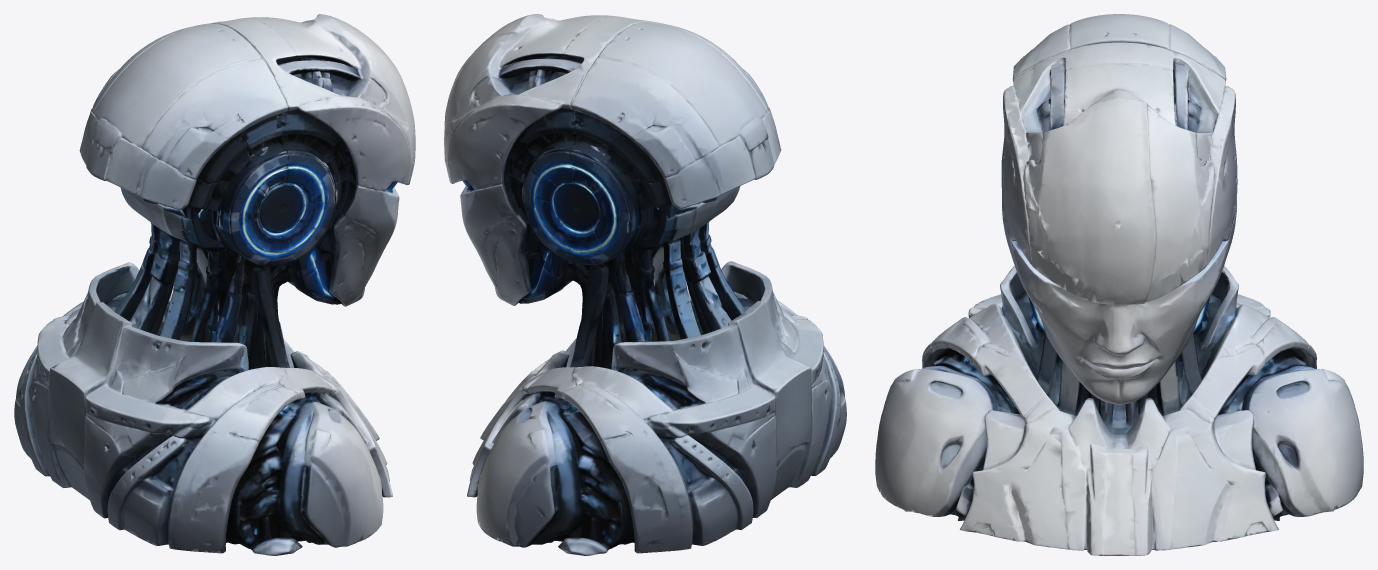
Rendered from robot-head.glb.
The picture shows the model from 3 angles, left to right: view 1: azimuth 30°, elevation 25°; view 2: azimuth 150°, elevation 25°; view 3: azimuth 270°, elevation 25°; orthographic projection. The views are drawn at different scales.
Visible parts, largest first — view 1: tripo_node_4566a5f5-e621-48a9-8c95-b8923f9c40a0; view 2: tripo_node_4566a5f5-e621-48a9-8c95-b8923f9c40a0; view 3: tripo_node_4566a5f5-e621-48a9-8c95-b8923f9c40a0.
Boxes of the visible parts, left/top/right/bottom form: tripo_node_4566a5f5-e621-48a9-8c95-b8923f9c40a0: left=14, top=14, right=415, bottom=555; tripo_node_4566a5f5-e621-48a9-8c95-b8923f9c40a0: left=444, top=14, right=846, bottom=555; tripo_node_4566a5f5-e621-48a9-8c95-b8923f9c40a0: left=875, top=14, right=1363, bottom=555.
Size of the model in its own units: 0.8065 by 0.9811 by 0.9619.
Materials: 1 (1 with a texture image).
